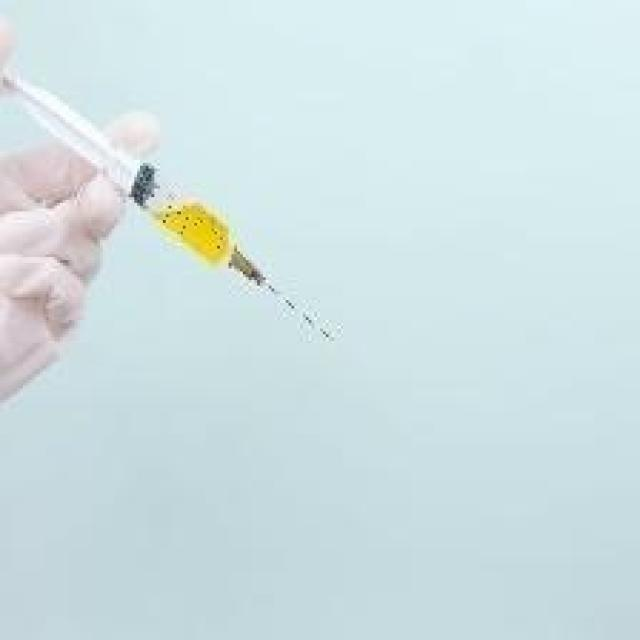syringe: (0, 50, 341, 354)
